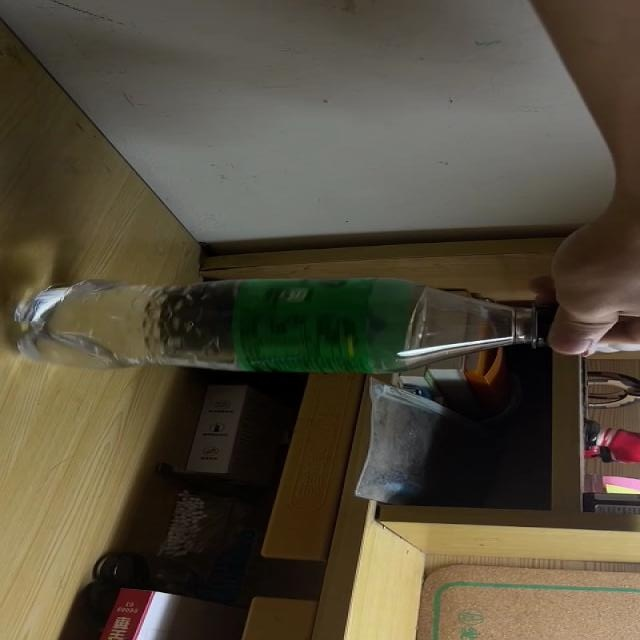Sprite: (11, 276, 595, 374)
